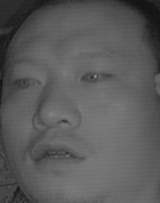eye: (78, 66, 114, 89), (10, 70, 44, 94)
mouth: (29, 131, 91, 173)
